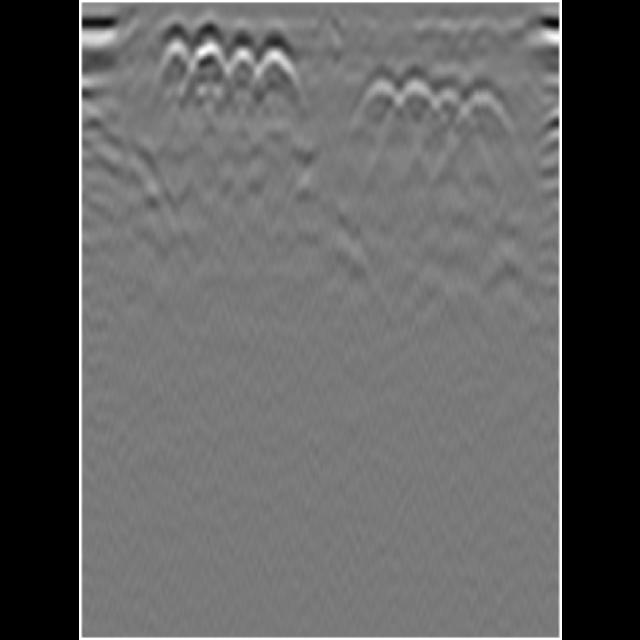hyperbola: (456, 82, 512, 140), (215, 40, 272, 90), (352, 74, 403, 124), (391, 68, 435, 122), (252, 43, 298, 93), (429, 84, 473, 134), (153, 31, 197, 80), (186, 36, 232, 82)
